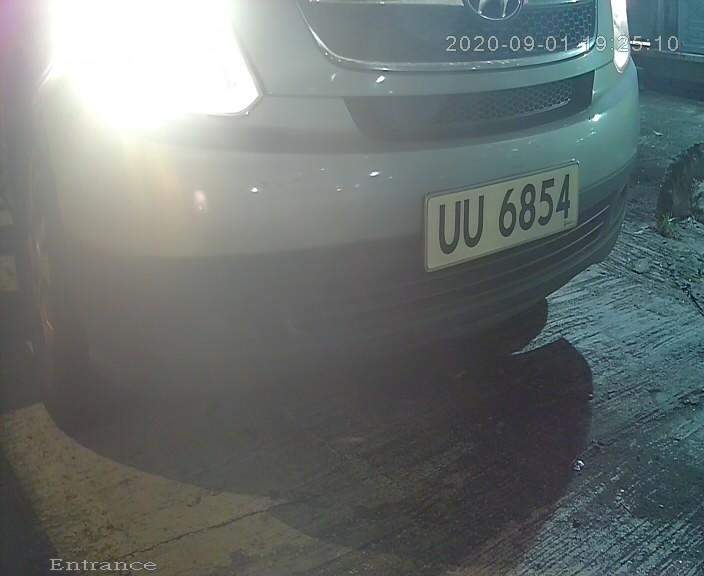License Plate: (422, 152, 573, 281)
